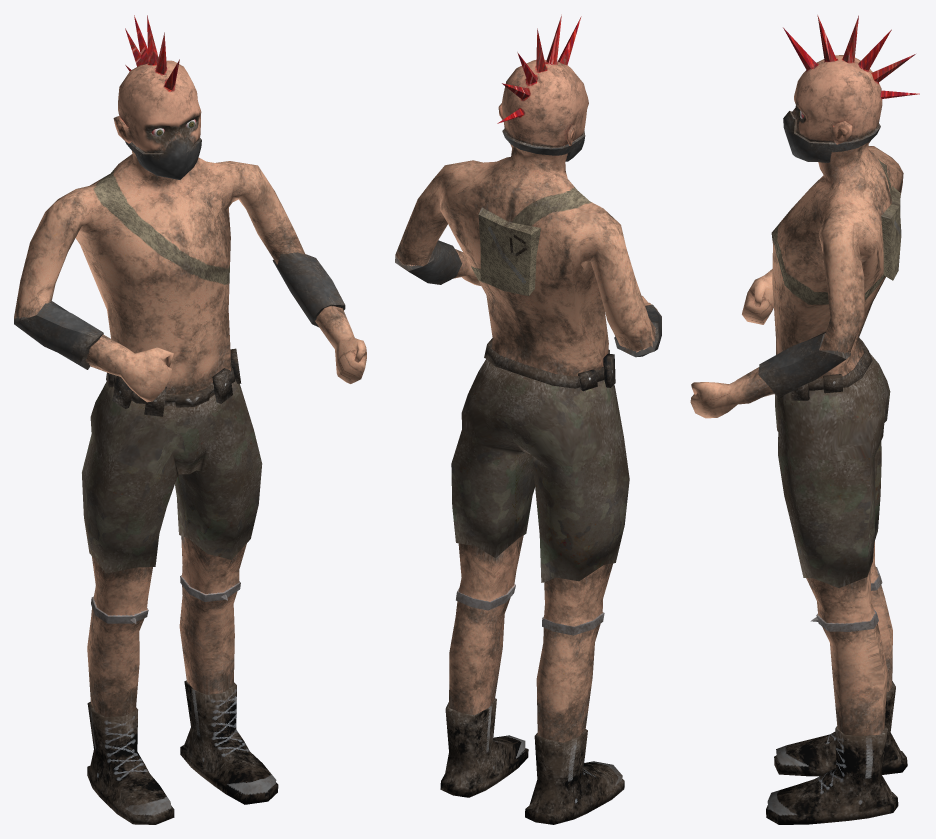
The model's file is Anim_disparar_ametralladora_npc2.0016.obj.
The picture shows the model from 3 angles, left to right: view 1: azimuth 30°, elevation 25°; view 2: azimuth 150°, elevation 25°; view 3: azimuth 270°, elevation 25°; orthographic projection.
Visible parts, largest first — view 1: polySurface1; view 2: polySurface1; view 3: polySurface1.
Boxes of the visible parts, <box> form: polySurface1: <box>14,15,366,824</box>; polySurface1: <box>395,14,661,824</box>; polySurface1: <box>690,15,919,824</box>.
Size of the model in its own units: 3.84 by 10.2 by 2.79.
